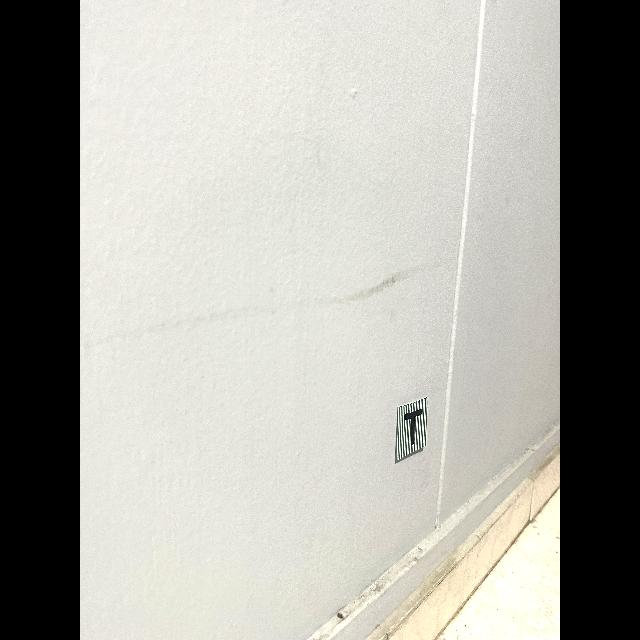T: (404, 409, 423, 446)
